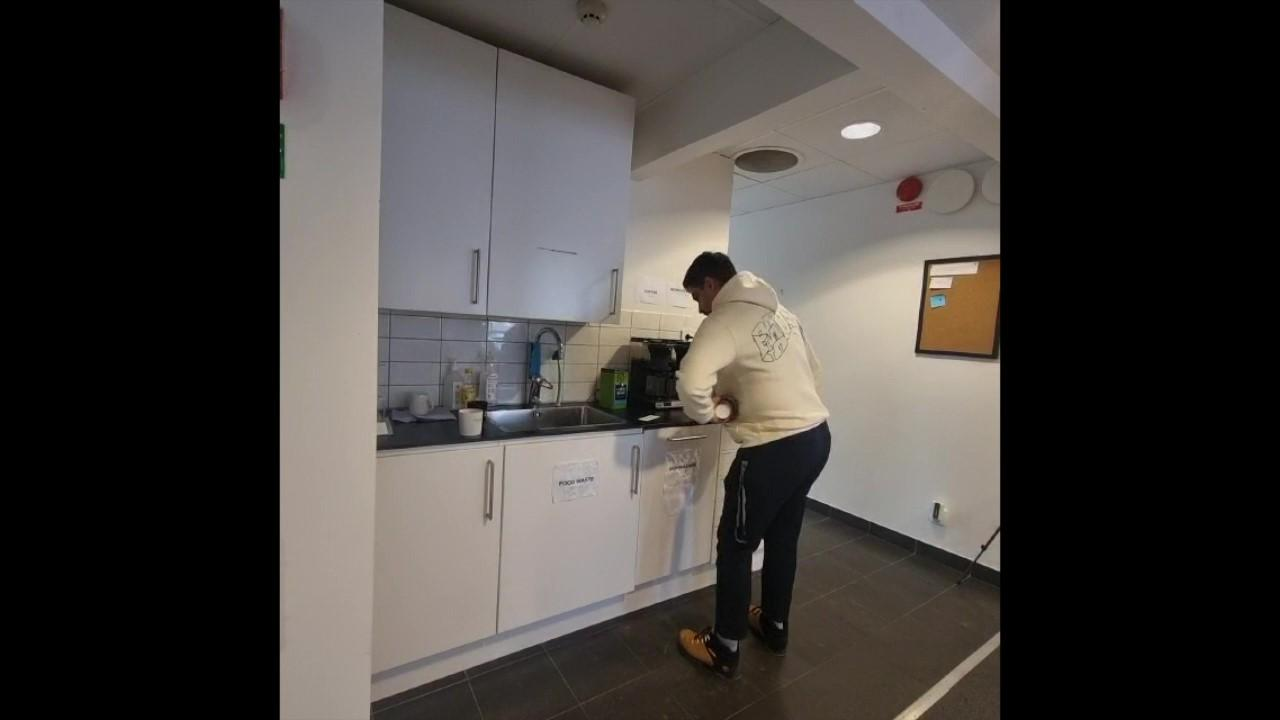shoplifting: (674, 250, 831, 671)
